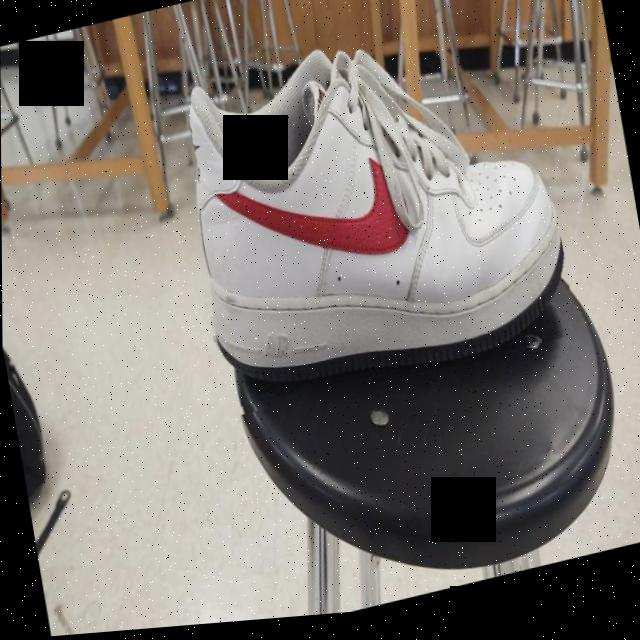shoe: (169, 2, 578, 426)
